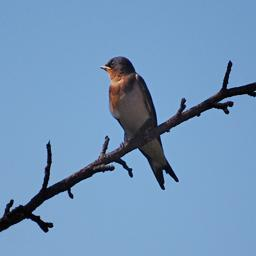Swallow: (100, 56, 179, 190)
